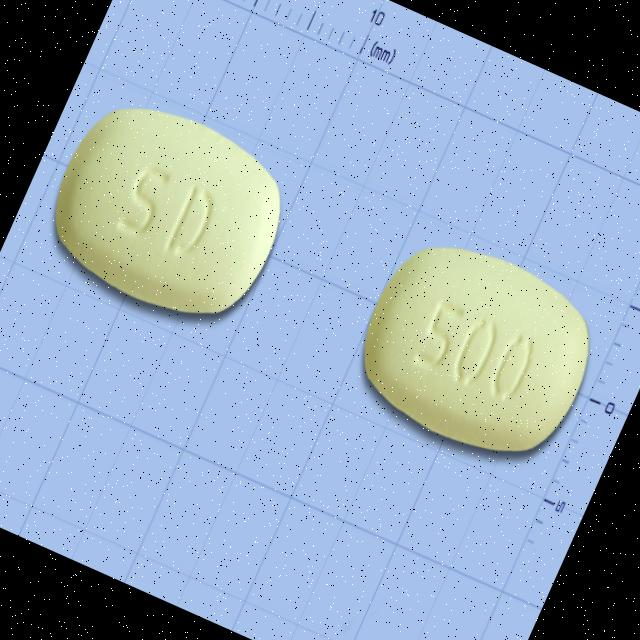Clabio: (22, 74, 314, 354), (332, 212, 620, 488)
